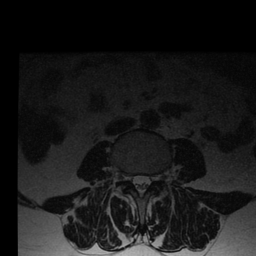CCS_normal: (137, 166, 144, 203)
LFS_normal: (152, 168, 159, 188)
LLS_normal: (144, 170, 151, 193)
RFS_normal: (122, 167, 130, 187)
RLS_normal: (130, 169, 137, 192)
